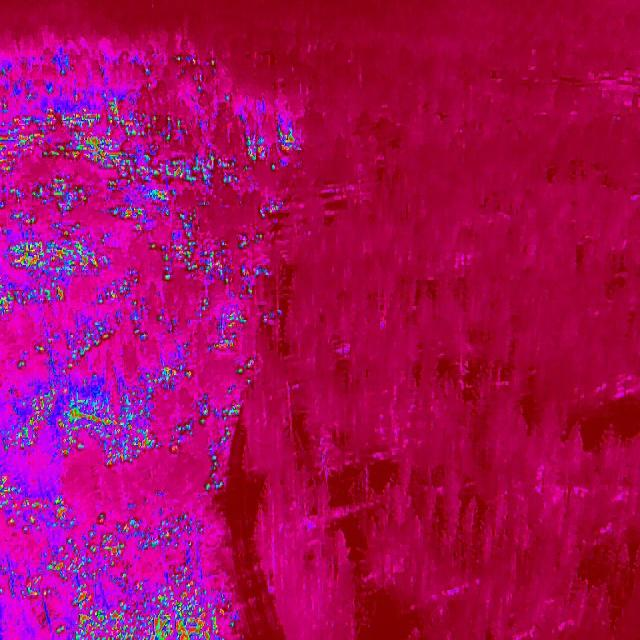fire: (22, 512, 242, 640), (0, 93, 234, 181), (6, 368, 195, 468), (2, 183, 202, 275), (44, 278, 158, 372), (194, 399, 245, 497), (0, 478, 68, 532), (233, 116, 306, 166), (0, 278, 68, 316), (235, 194, 282, 248), (200, 234, 234, 296), (208, 305, 250, 353), (165, 50, 224, 76), (234, 260, 270, 300), (233, 352, 263, 378)
